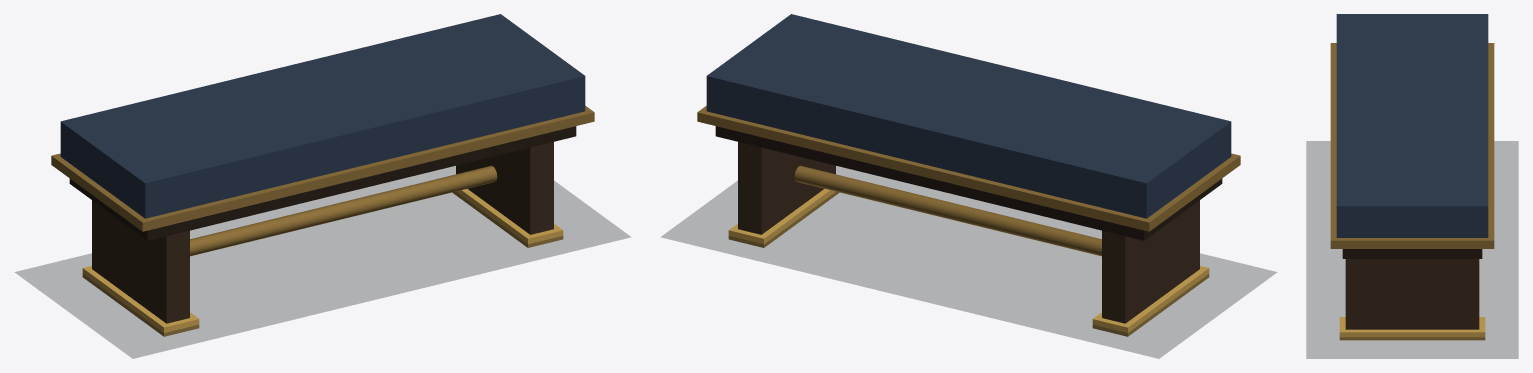
File: hp_room_desire_gallery_bench.glb
3 views of the same model, side by side, from view 1: azimuth 30°, elevation 25°; view 2: azimuth 150°, elevation 25°; view 3: azimuth 270°, elevation 25° (orthographic). The views are drawn at different scales.
Visible parts, largest first — view 1: cushion, contact_shadow, leg_panel_-1, cushion_trim, stretcher, leg_panel_1, frame, leg_foot_-1, leg_foot_1; view 2: cushion, contact_shadow, leg_panel_-1, cushion_trim, stretcher, leg_panel_1, frame, leg_foot_-1, leg_foot_1; view 3: cushion, contact_shadow, leg_panel_1, cushion_trim, leg_foot_1, frame.
Boxes of the visible parts, box(x1,y1,x2,y2) form: cushion: box(60, 14, 585, 218); contact_shadow: box(15, 166, 630, 358); leg_panel_-1: box(92, 200, 189, 323); cushion_trim: box(51, 106, 594, 231); stretcher: box(190, 165, 497, 256); leg_panel_1: box(456, 142, 553, 234); frame: box(69, 126, 576, 240); leg_foot_-1: box(82, 266, 199, 336); leg_foot_1: box(452, 189, 563, 247); cushion: box(706, 14, 1231, 218); contact_shadow: box(661, 166, 1276, 358); leg_panel_-1: box(1102, 200, 1199, 323); cushion_trim: box(697, 106, 1240, 231); stretcher: box(794, 165, 1101, 256); leg_panel_1: box(738, 142, 835, 234); frame: box(715, 126, 1222, 240); leg_foot_-1: box(1092, 266, 1209, 336); leg_foot_1: box(728, 189, 839, 247); cushion: box(1336, 14, 1488, 237); contact_shadow: box(1306, 141, 1518, 358); leg_panel_1: box(1345, 259, 1479, 329); cushion_trim: box(1330, 43, 1494, 248); leg_foot_1: box(1339, 317, 1485, 340); frame: box(1342, 249, 1482, 258).
Size of the model in its own units: 1.7 by 0.52 by 0.7.
